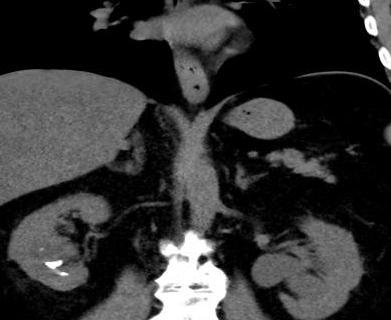Tas_Var: (43, 259, 67, 270), (59, 270, 71, 277)
